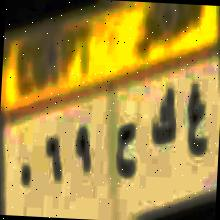0: (18, 152, 34, 196)
6: (44, 129, 64, 185)
7aa: (115, 120, 141, 182)
9: (71, 122, 98, 178)
ghayn: (183, 82, 214, 166)
kaaf: (146, 89, 178, 146)
